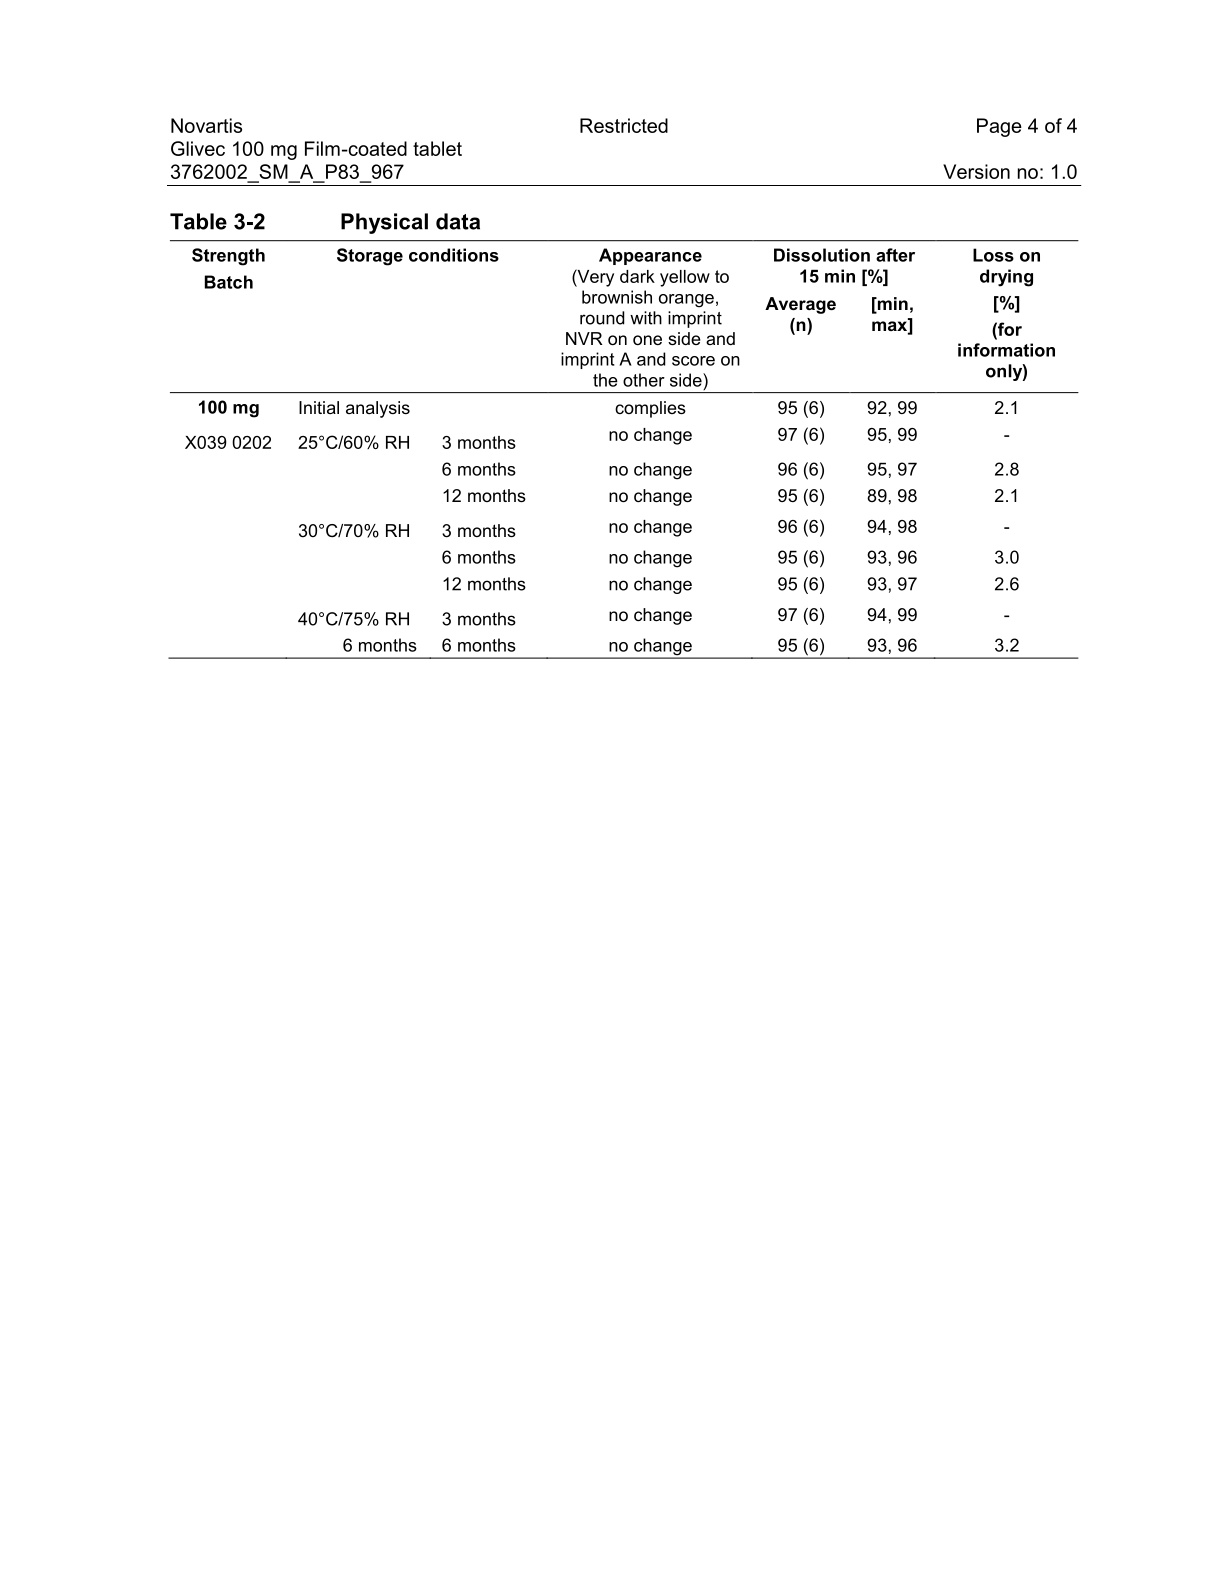partial_lined_merged_cells: (168, 238, 1080, 661)
